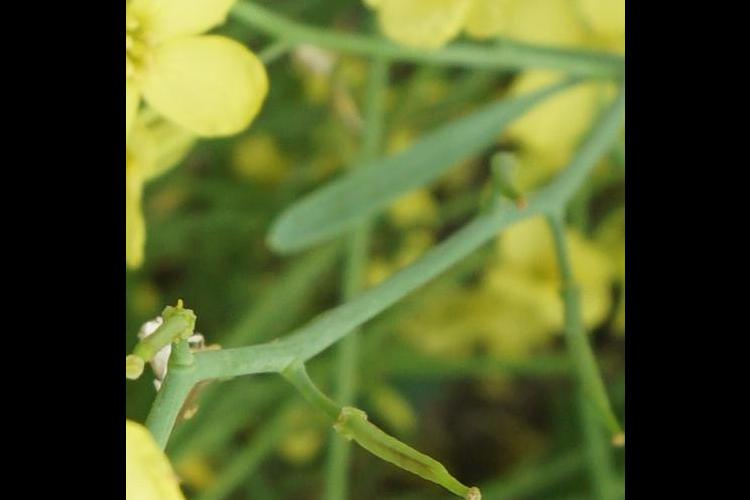pod: (305, 399, 495, 500)
yellow: (127, 1, 276, 192), (377, 1, 530, 33)
